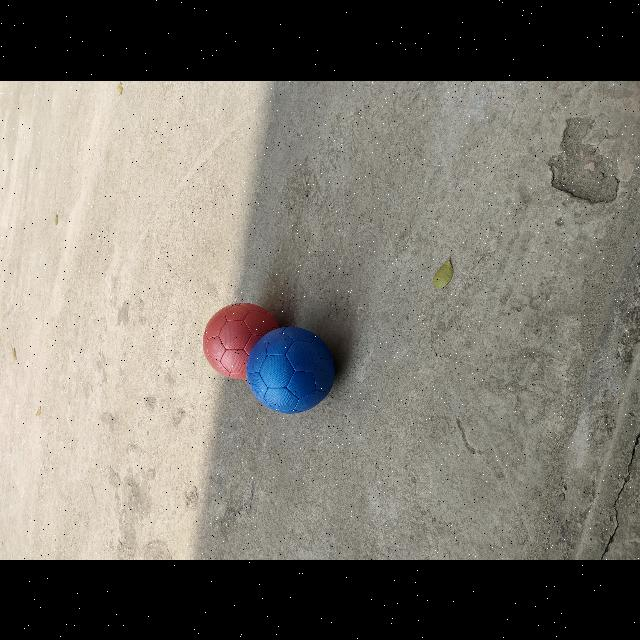B: (247, 326, 335, 413)
R: (202, 303, 279, 380)
